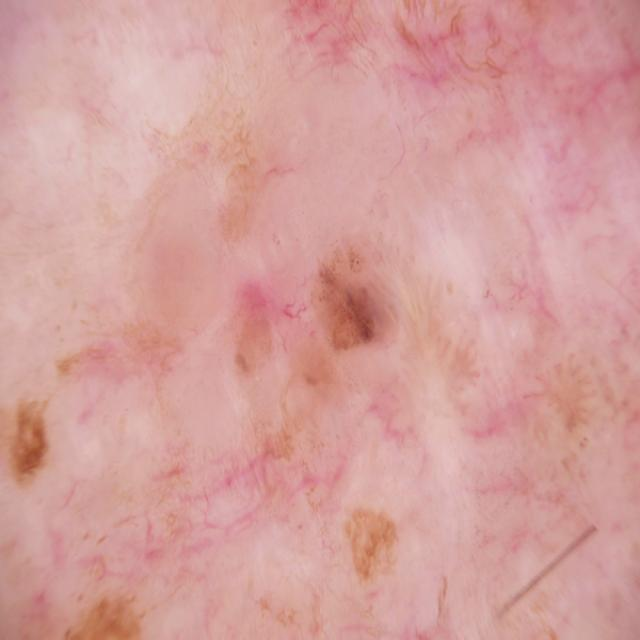Skin-Cancer Basal cell carcinoma: (32, 26, 610, 640)
